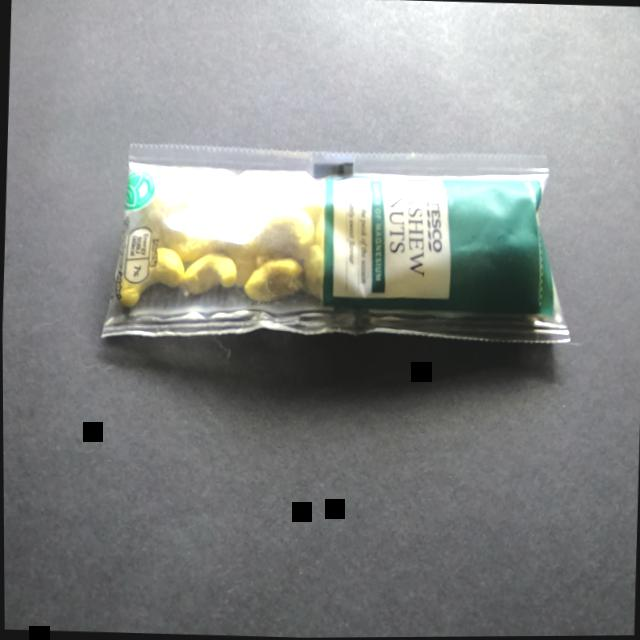Cashewnut: (67, 94, 611, 386)
